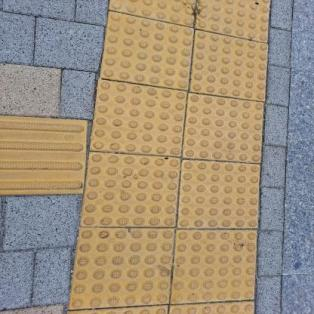Podoctatil: (0, 0, 277, 313)
